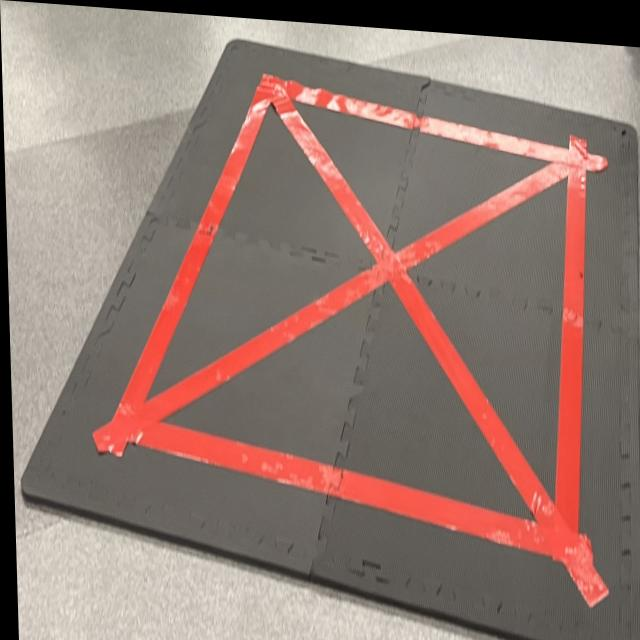landingPads: (11, 25, 640, 640)
